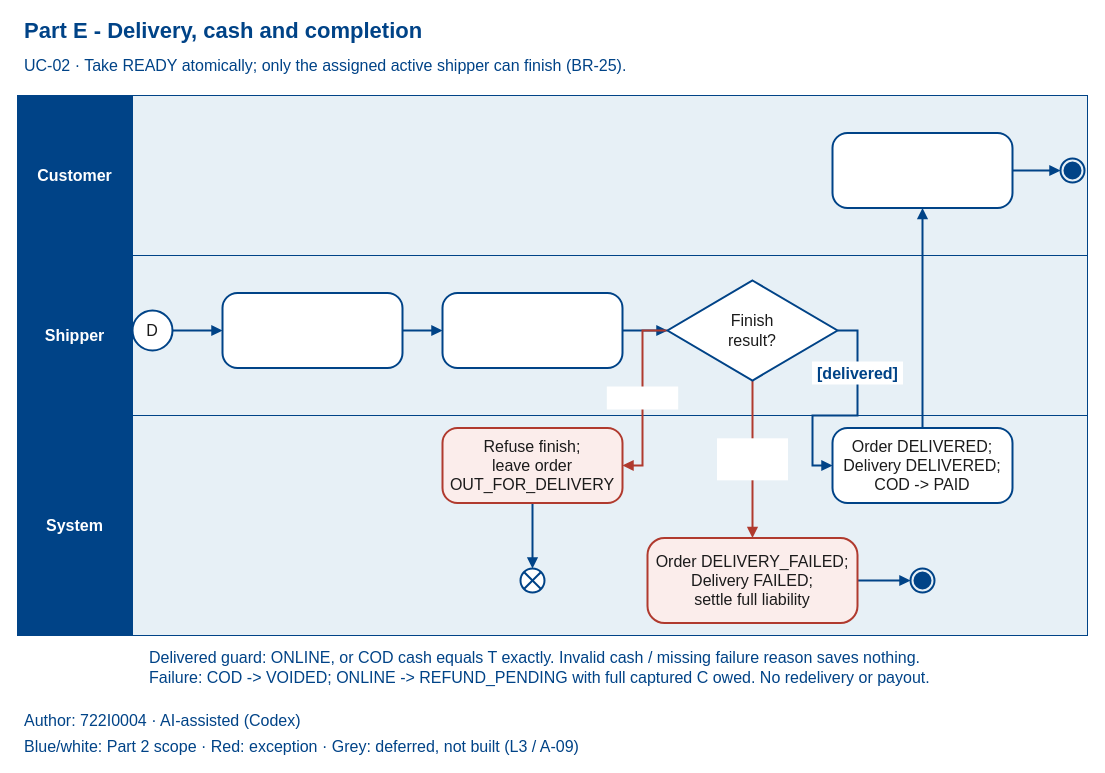
Image size: 1105x773. Some labels were removed from this diagram. Each missing label, with the centre of its shape:
[failed + reason]: the point at 752,459
[invalid]: the point at 642,397
Deliver to the stored address: the point at 532,330
Read stored receipt (SUC-03): the point at 922,170
Take READY; Delivery PICKED_UP; OUT_FOR_DELIVERY: the point at 312,330
